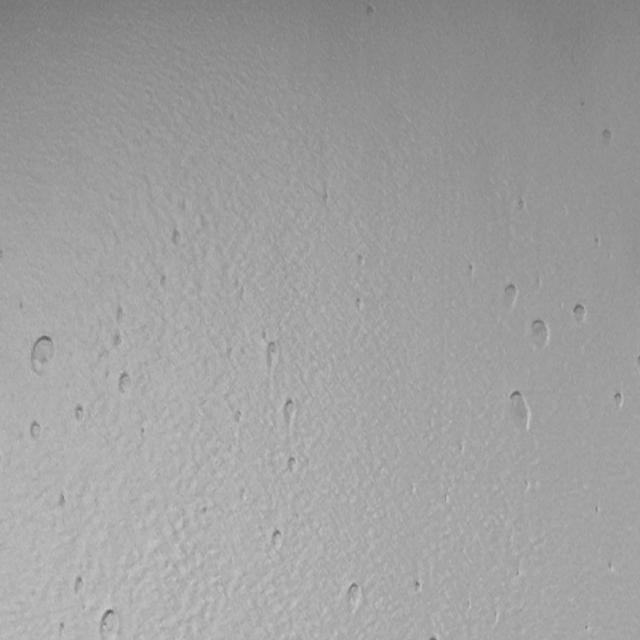pin holes: (504, 389, 536, 437), (31, 332, 59, 373), (99, 606, 122, 640), (532, 318, 553, 350), (343, 582, 365, 612), (500, 280, 520, 308), (569, 302, 590, 328), (278, 397, 297, 425), (117, 371, 137, 397), (268, 528, 286, 556), (597, 126, 616, 152), (27, 419, 45, 443), (70, 572, 86, 599), (610, 391, 628, 414), (462, 260, 480, 282), (265, 343, 280, 369), (73, 403, 90, 425), (169, 228, 185, 250), (56, 488, 71, 511), (116, 303, 130, 326), (286, 456, 302, 476), (112, 332, 127, 352), (363, 5, 379, 23), (514, 196, 529, 214), (351, 296, 365, 314), (411, 578, 424, 596), (232, 408, 245, 426), (56, 619, 69, 637), (604, 558, 614, 580), (356, 254, 369, 270), (591, 233, 603, 248), (581, 622, 592, 634), (594, 503, 602, 516)
